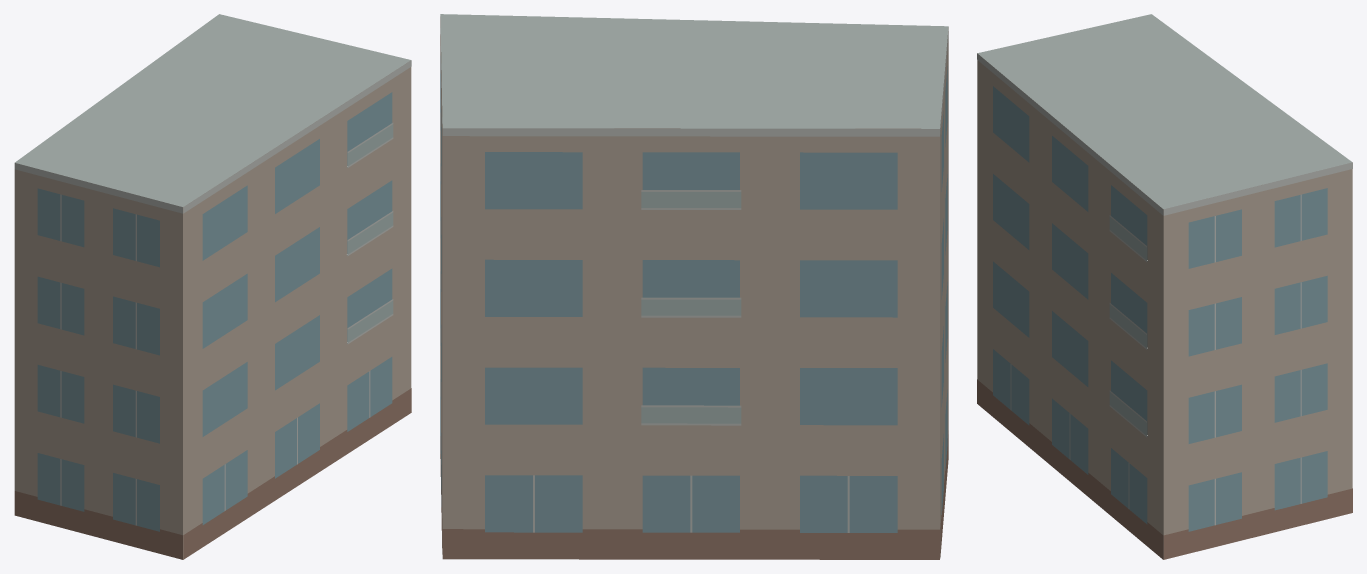
File: survey-upis-32742421.glb
The picture shows the model from 3 angles, left to right: view 1: azimuth 30°, elevation 25°; view 2: azimuth 150°, elevation 25°; view 3: azimuth 270°, elevation 25°; orthographic projection. The views are drawn at different scales.
Parts seen in each view (by area): view 1: survey-upis-32742421.tmp; view 2: survey-upis-32742421.tmp; view 3: survey-upis-32742421.tmp.
Part boxes in pixels (x1=…): survey-upis-32742421.tmp: x1=14, y1=14, x2=411, y2=559; survey-upis-32742421.tmp: x1=440, y1=14, x2=948, y2=559; survey-upis-32742421.tmp: x1=977, y1=14, x2=1352, y2=559.
Size of the model in its own units: 15.73 by 13.15 by 12.78.
